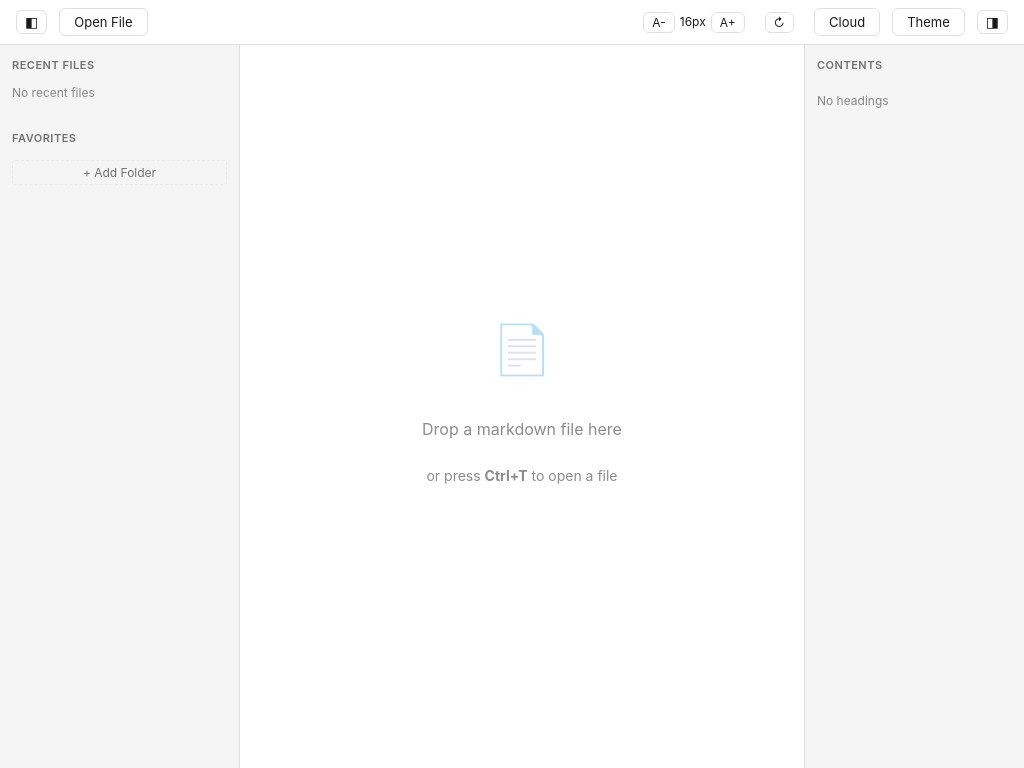
Scenario: App › toggles right sidebar visibility
The width and height of the screenshot is (1024, 768).
Expected: the element with class "sidebar-right" is shown, [804,45,1023,767]
Click the button titled "Toggle right sidebar" at [992, 22], box [977,10,1008,34]
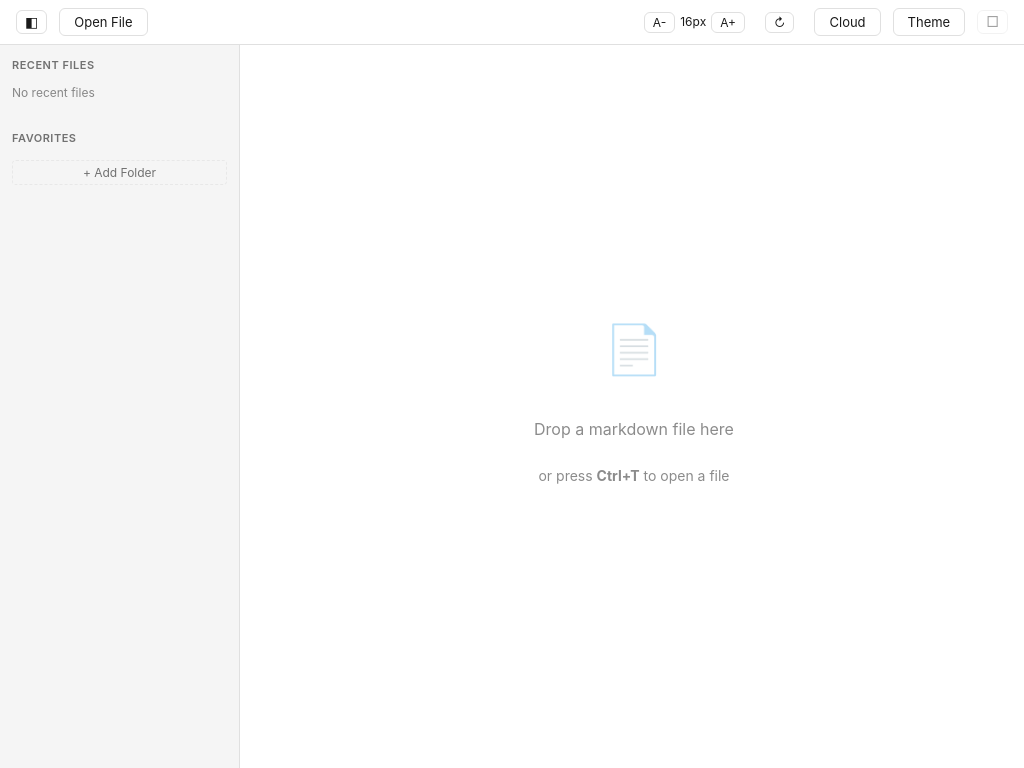
Expected: the element with class "sidebar-right" is gone
